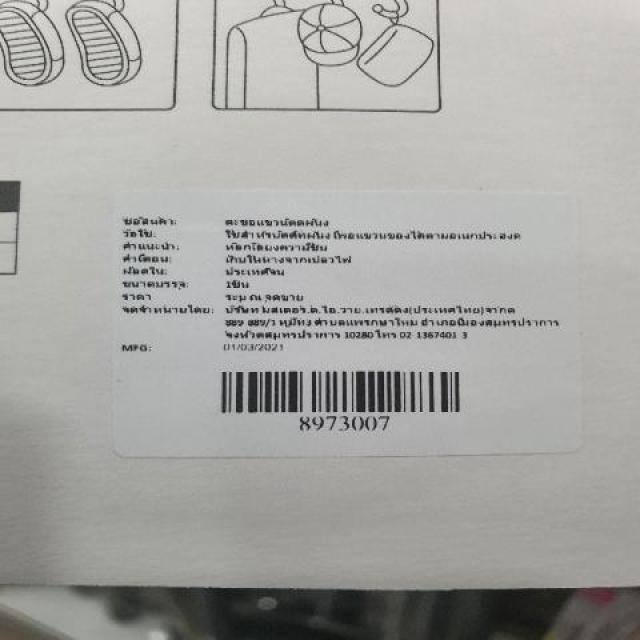Barcode: (208, 358, 476, 435)
